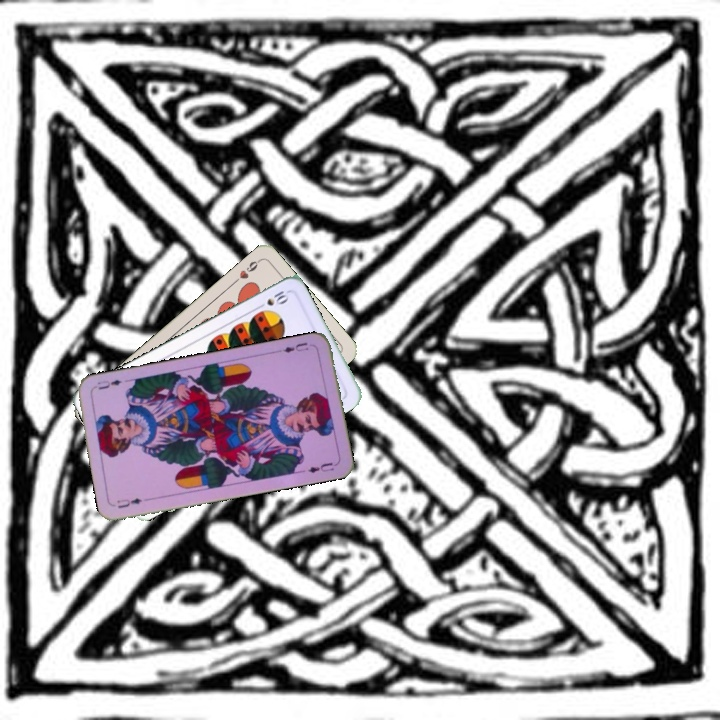EU: (275, 338, 311, 355), (113, 494, 144, 511)
H9: (230, 255, 263, 286)
S10: (253, 286, 291, 311)
